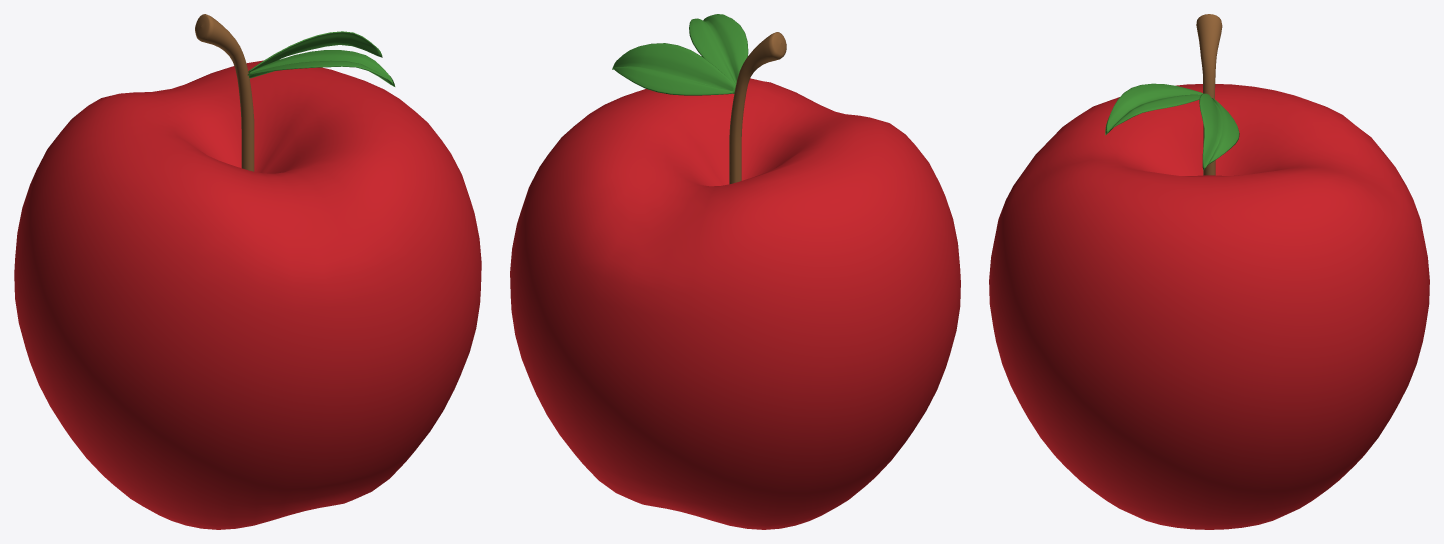
File: apple.fbx
3 renders of one model, left to right at view 1: azimuth 30°, elevation 25°; view 2: azimuth 150°, elevation 25°; view 3: azimuth 270°, elevation 25°, orthographic. The views are drawn at different scales.
Visible parts, largest first — view 1: pPlane1; view 2: pPlane1; view 3: pPlane1.
Part boxes in pixels (<box>): pPlane1: <box>14,14,481,529</box>; pPlane1: <box>510,14,960,529</box>; pPlane1: <box>989,14,1429,529</box>.
Size of the model in its own units: 2.09 by 2.4 by 2.08.
1 material, 1 textured.
